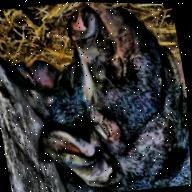boar: (37, 1, 191, 185)
